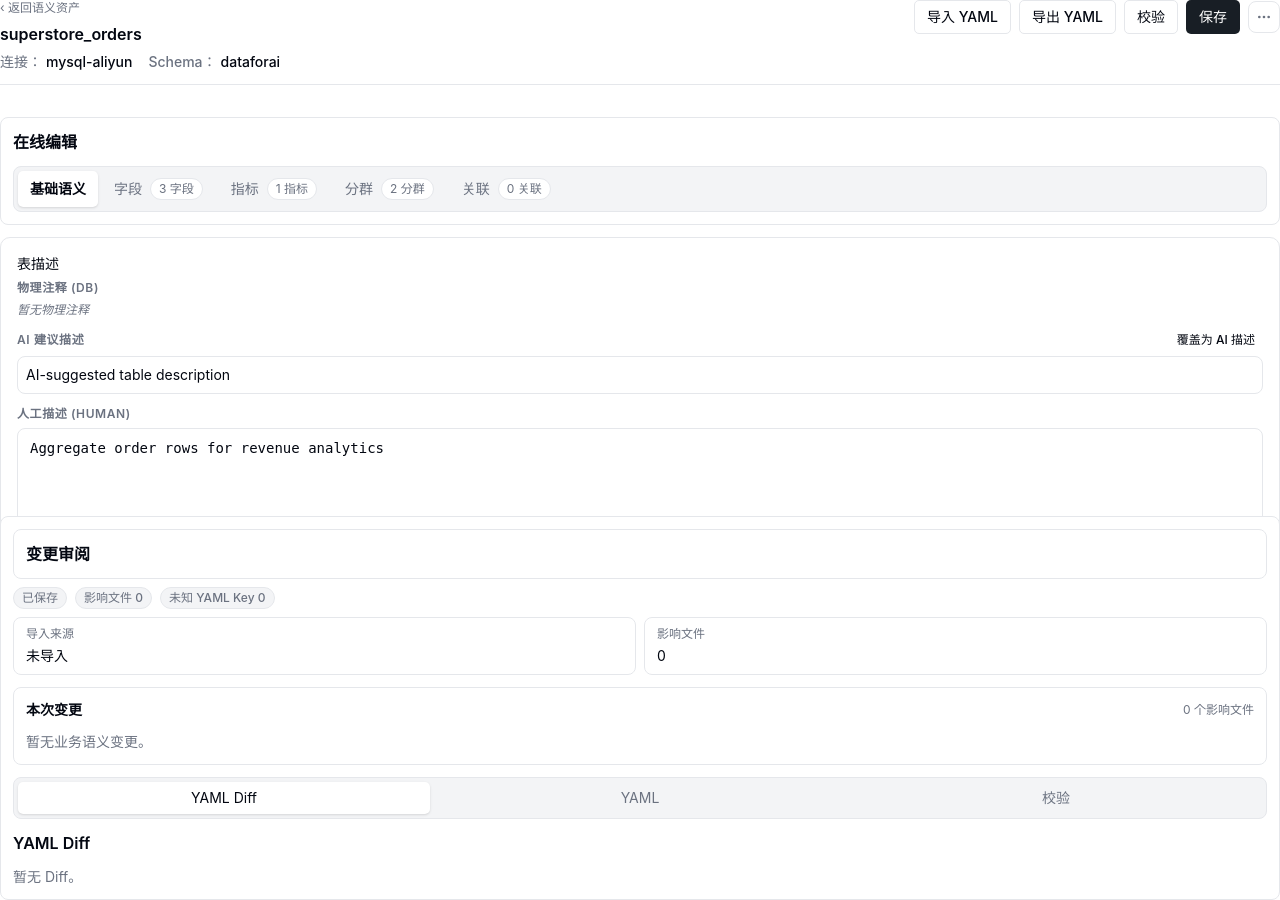
Test: TableEditor › hides the native file input while keeping 导入 YAML as the user-facing entry
Click the button "导入 YAML". click: (962, 17)
box: [914, 0, 1011, 34]
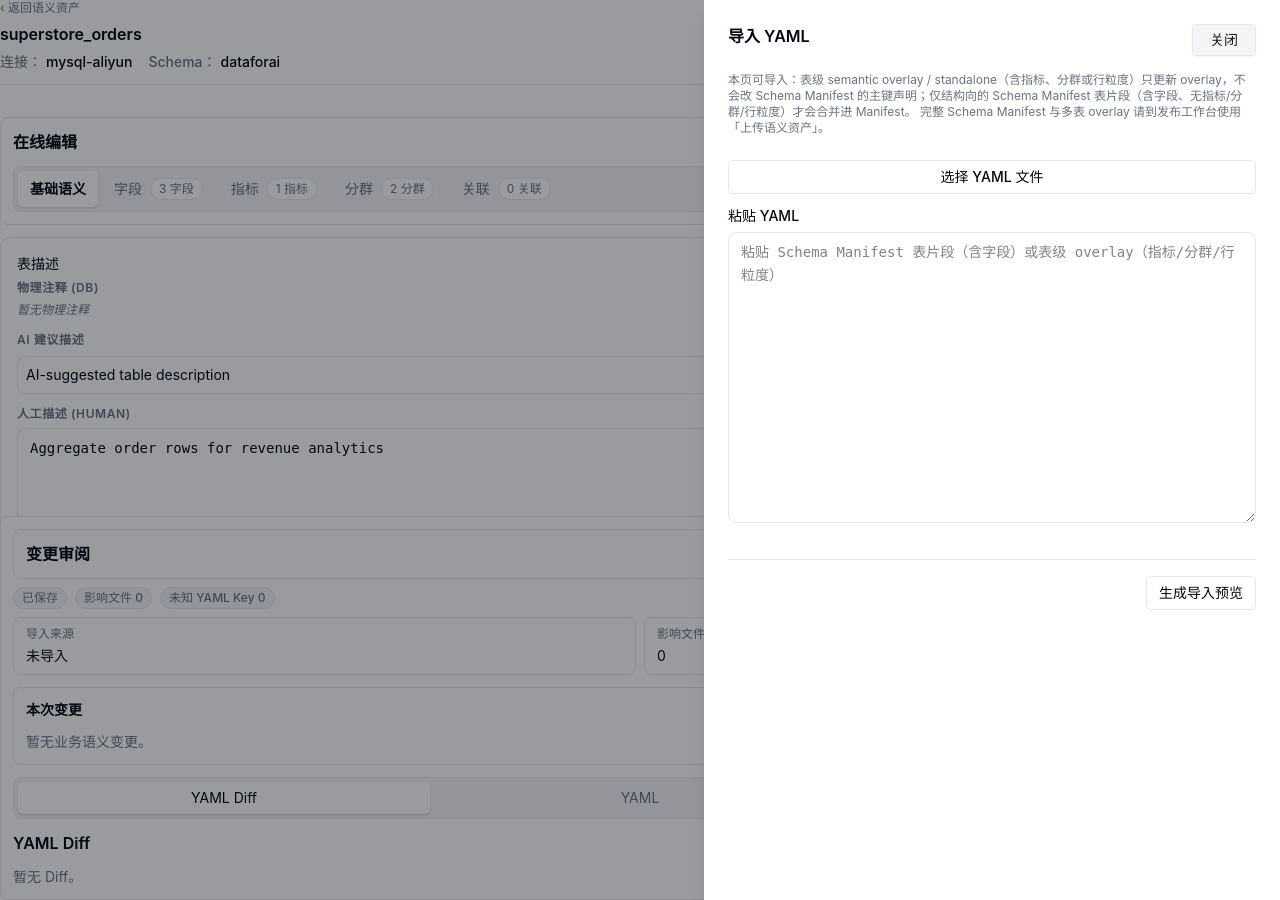
Check: the button "选择 YAML 文件" is shown, box [728, 160, 1256, 194]
Check: the text with test id "table-editor-import-guidance" shows "发布工作台", box [728, 72, 1246, 135]
